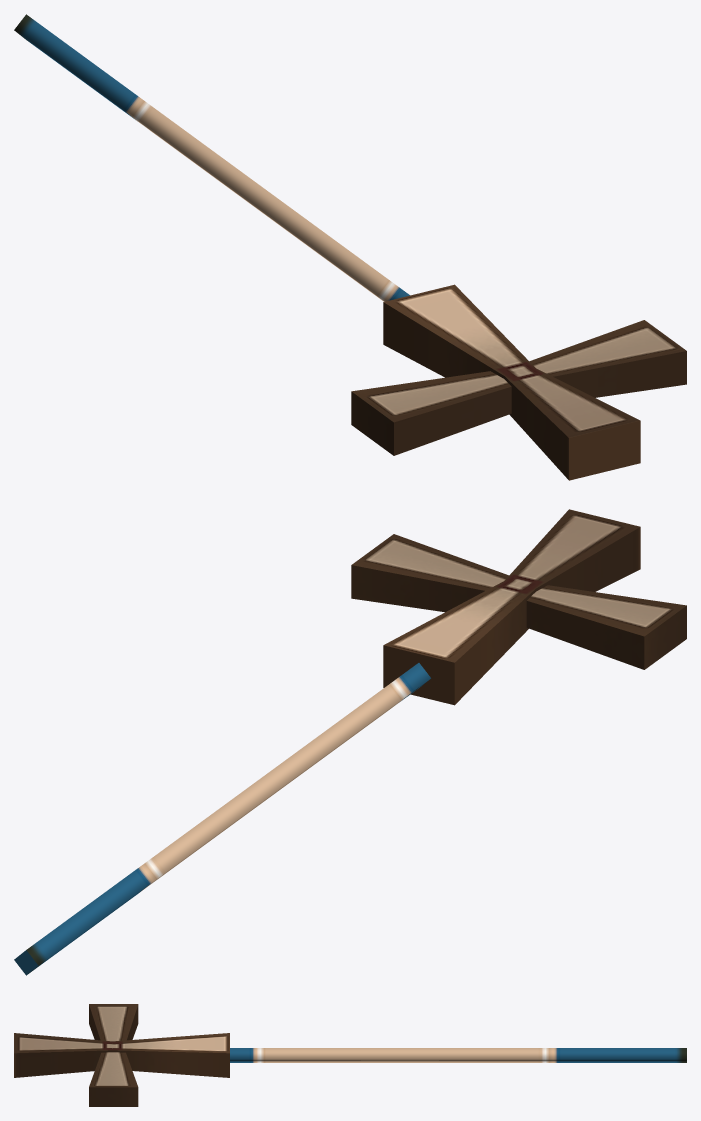
File: Priest_weapon.FBX
3 views of the same model, one above another, from view 1: azimuth 30°, elevation 25°; view 2: azimuth 150°, elevation 25°; view 3: azimuth 270°, elevation 25° (orthographic). The views are drawn at different scales.
Parts seen in each view (by area): view 1: Priests_weapon; view 2: Priests_weapon; view 3: Priests_weapon.
Part boxes in pixels (x1=…): Priests_weapon: x1=14, y1=14, x2=686, y2=480; Priests_weapon: x1=14, y1=509, x2=686, y2=975; Priests_weapon: x1=14, y1=1004, x2=686, y2=1106.
Bounding box in the file's own units: 54 × 7.5 × 185.
